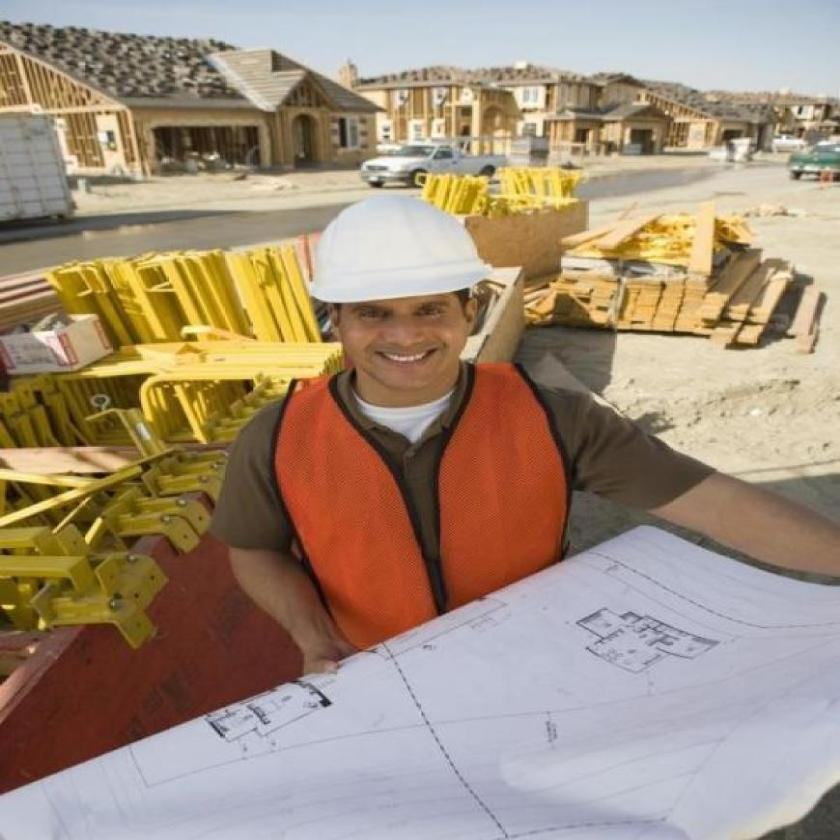Con_casco: (314, 187, 495, 394)
